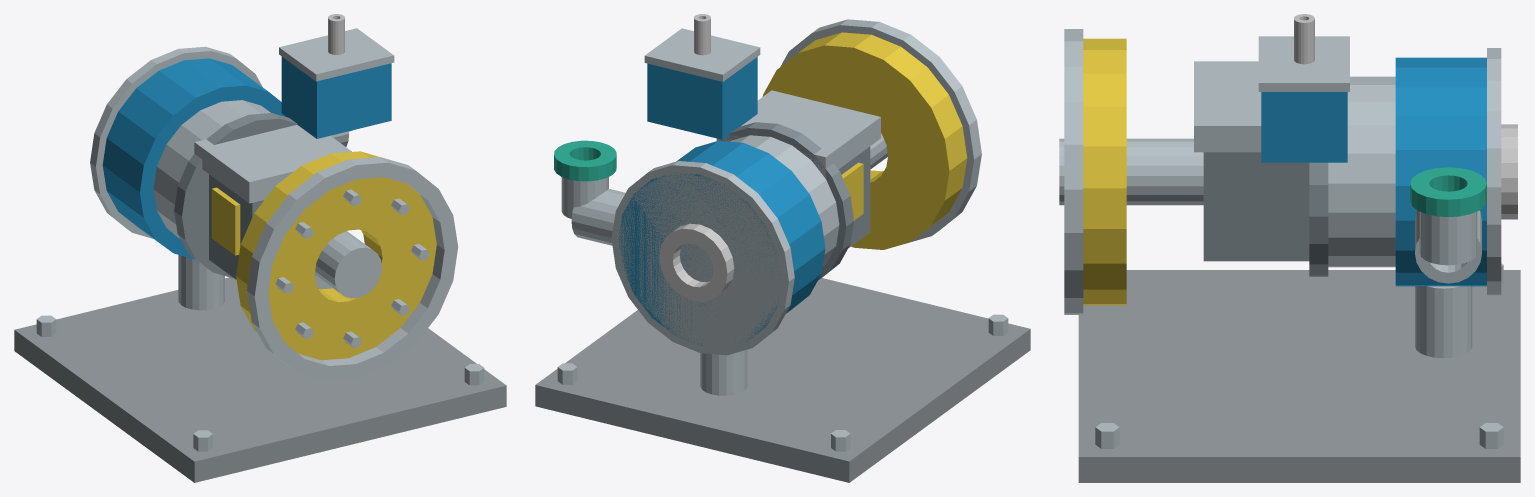
Rendered from body.obj.
3 renders of one model, left to right at view 1: azimuth 30°, elevation 25°; view 2: azimuth 150°, elevation 25°; view 3: azimuth 270°, elevation 25°, orthographic. The views are drawn at different scales.
Size of the model in its own units: 0.94 by 0.96 by 0.96.
